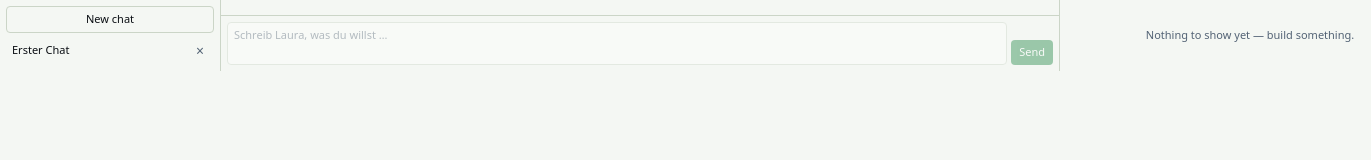
ChatStage › sending a message renders the returned turn
The image size is (1371, 160).
Click the text "Erster Chat" at (41, 50), box top-left (12, 42), bottom-right (69, 57)
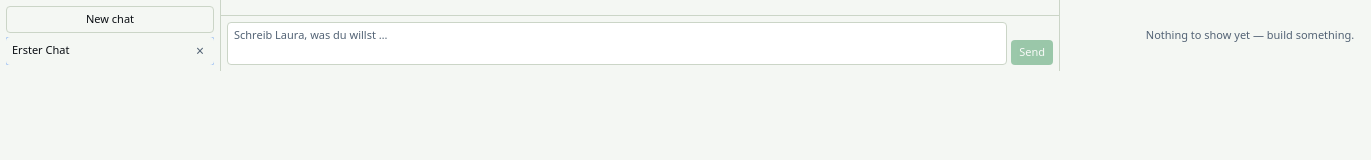
Type "Hallo Laura" into the text box named "Nachricht" at (617, 43), box top-left (227, 22), bottom-right (1007, 64)
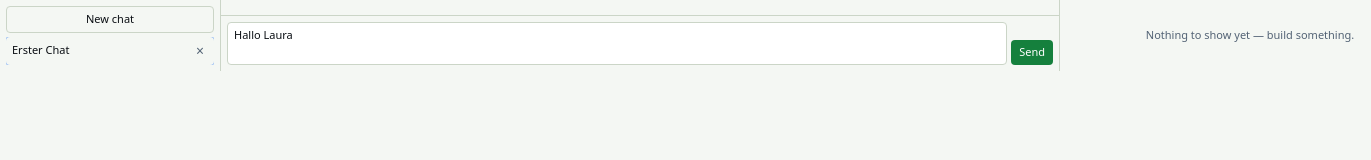
Click the button "Send" at (1032, 52), box top-left (1011, 40), bottom-right (1053, 64)
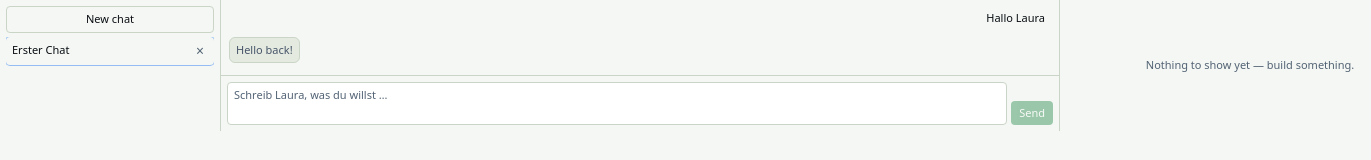
Expected: the text "Hallo Laura" is shown, top-left (986, 10), bottom-right (1045, 25)
Expected: the text "Hello back!" is shown, top-left (229, 36), bottom-right (300, 63)
